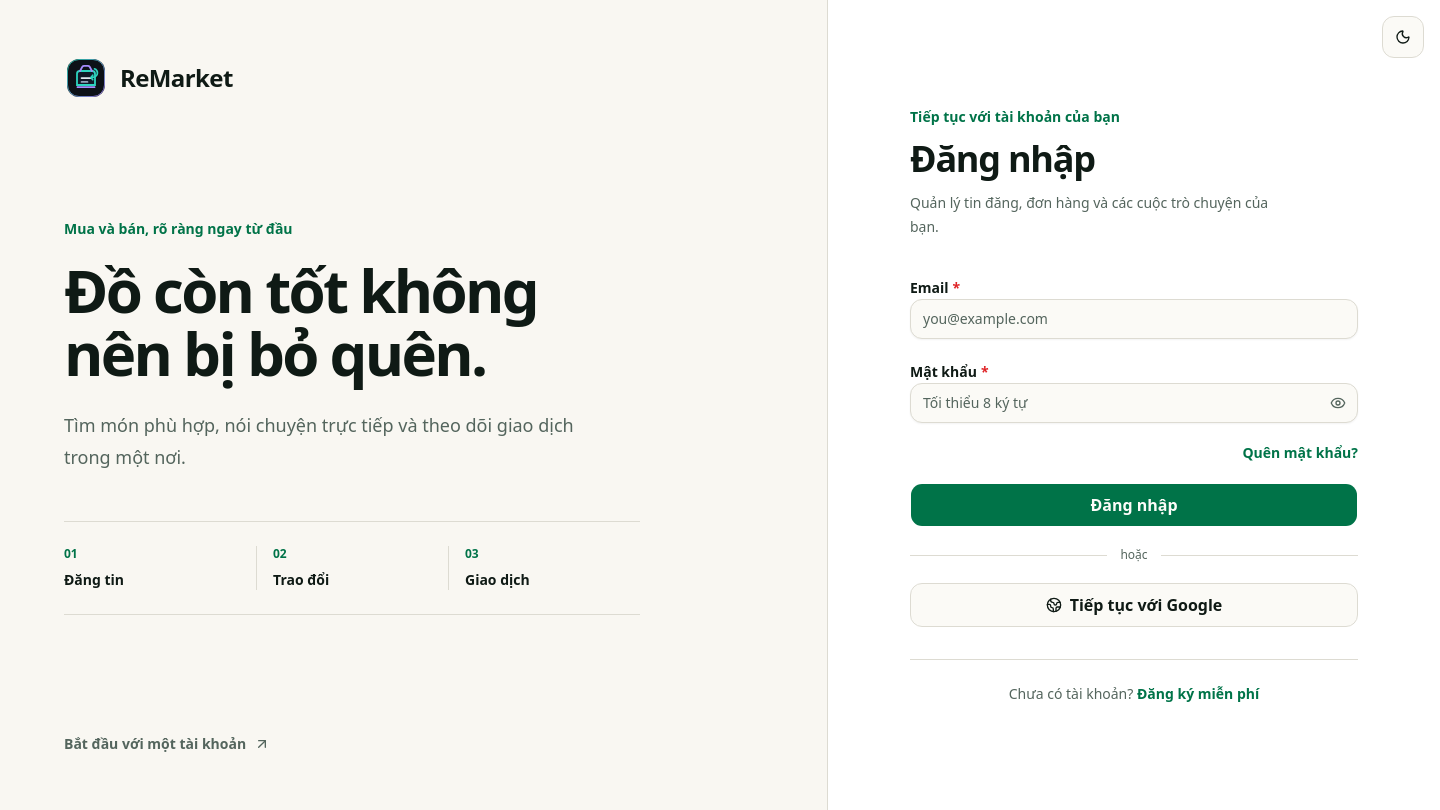
it: account and moderation flows › keeps invalid login credentials at the typed form boundary
The width and height of the screenshot is (1440, 810).
Type "email-sai" into the field labelled "Email*" at (1134, 318), box x1=910 y1=298 x2=1358 y2=338
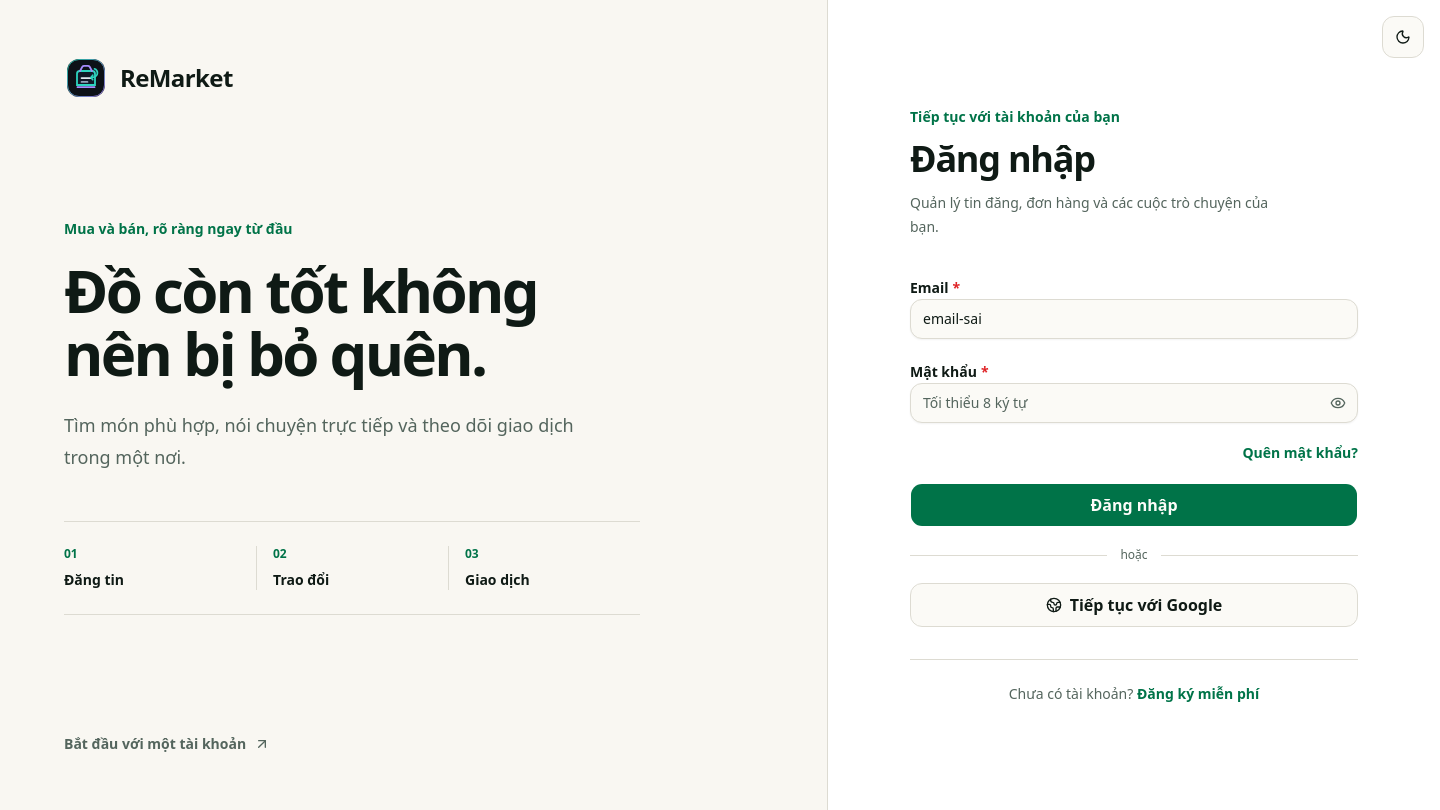
Type "ngắn" into the password field with placeholder "Tối thiểu 8 ký tự" at (1134, 402), box x1=910 y1=382 x2=1358 y2=422
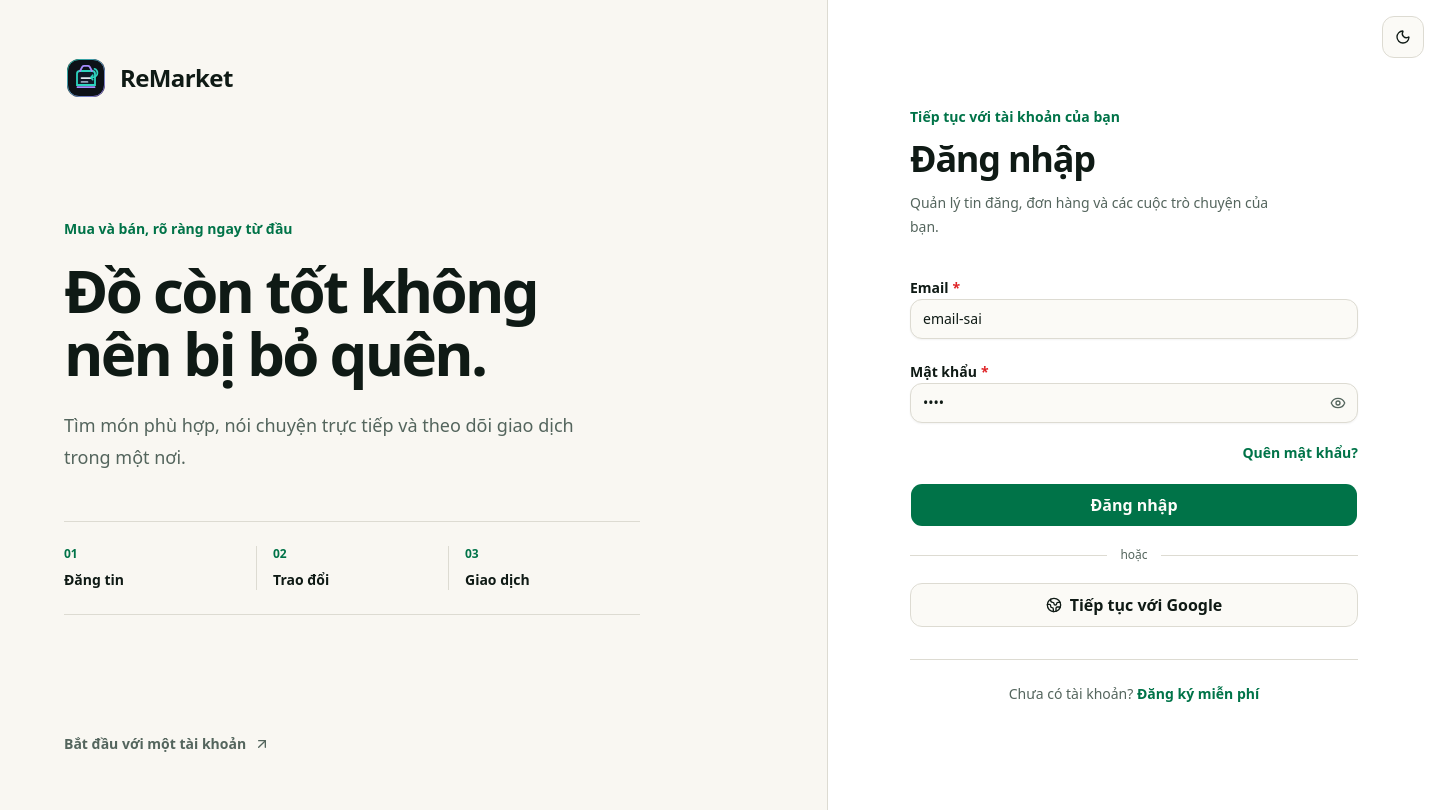
Click the button "Đăng nhập" at (1134, 504), box x1=910 y1=482 x2=1358 y2=526
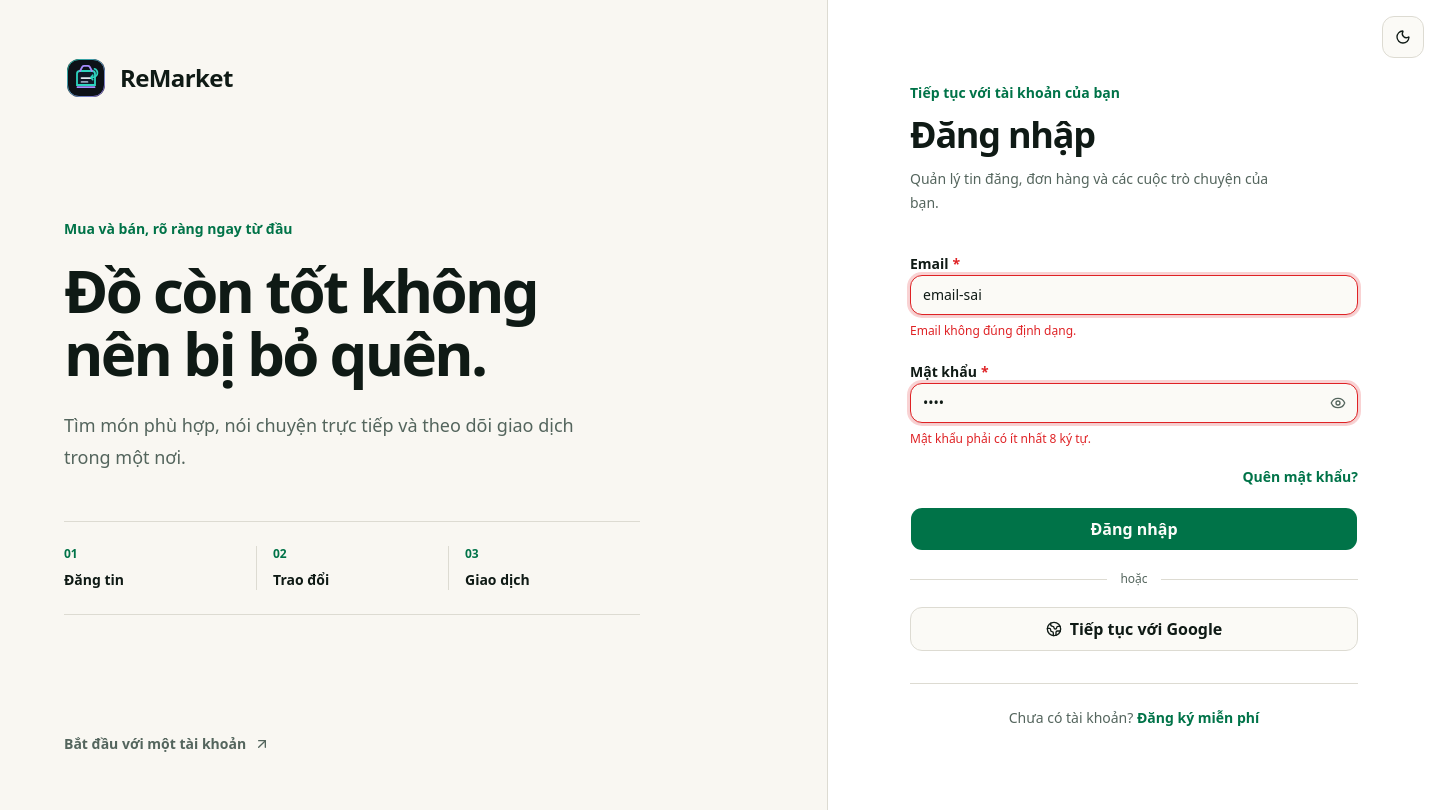
Expected: the text "Email không đúng định dạng." is shown, x1=910 y1=322 x2=1076 y2=338
